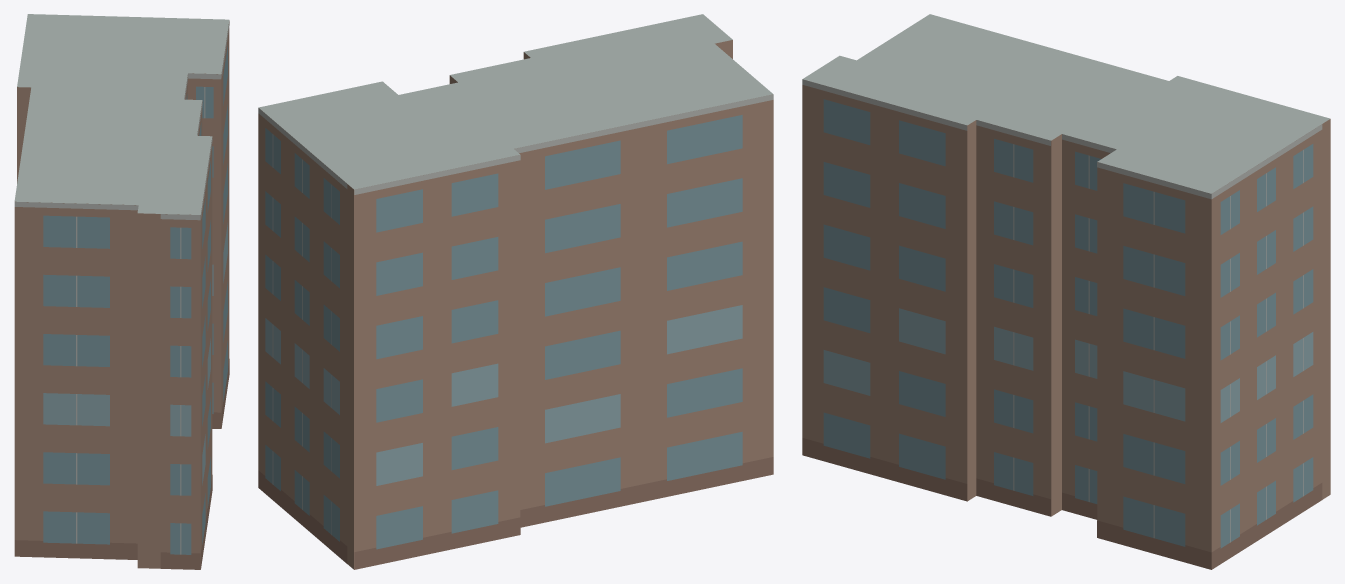
The model's file is survey-upis-32622105.glb.
3 views of the same model, side by side, from view 1: azimuth 30°, elevation 25°; view 2: azimuth 150°, elevation 25°; view 3: azimuth 270°, elevation 25° (orthographic). The views are drawn at different scales.
Visible parts, largest first — view 1: survey-upis-32622105.tmp; view 2: survey-upis-32622105.tmp; view 3: survey-upis-32622105.tmp.
Part boxes in pixels (left/top/right/bottom): survey-upis-32622105.tmp: left=14, top=14, right=229, bottom=569; survey-upis-32622105.tmp: left=258, top=14, right=773, bottom=569; survey-upis-32622105.tmp: left=802, top=14, right=1330, bottom=569.
Bounding box in the file's own units: 17.14 × 16.7 × 21.27.
